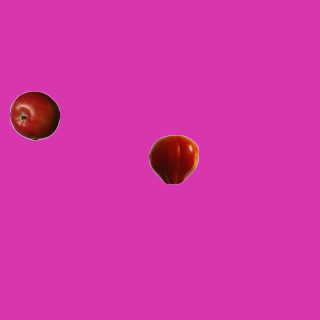Apple Braeburn: (9, 90, 59, 140)
Tomato 1: (148, 134, 198, 184)
